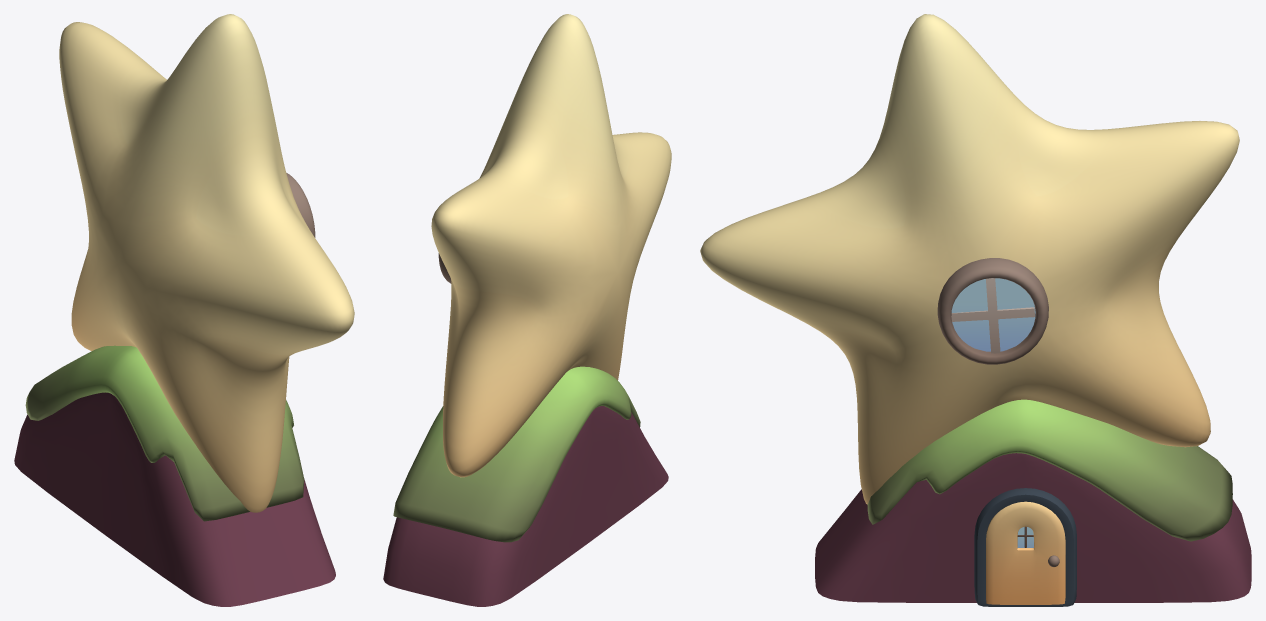
The model's file is Huisjes ster.fbx.
The picture shows the model from 3 angles, left to right: view 1: azimuth 30°, elevation 25°; view 2: azimuth 150°, elevation 25°; view 3: azimuth 270°, elevation 25°; orthographic projection. The views are drawn at different scales.
Parts seen in each view (by area): view 1: Circle.002, Circle.003, Circle.004, Cylinder.001; view 2: Circle.002, Circle.003, Circle.004; view 3: Circle.002, Circle.003, Circle.004, door, Cylinder.001, Cylinder.002, Plane.002, Cube.039.
Boxes of the visible parts, box(x1,y1,x2,y2) form: Circle.002: box(59, 14, 354, 512); Circle.003: box(14, 392, 335, 606); Circle.004: box(25, 345, 304, 521); Cylinder.001: box(286, 173, 315, 237); Circle.002: box(431, 14, 671, 477); Circle.003: box(383, 406, 668, 606); Circle.004: box(393, 366, 640, 542); Circle.002: box(700, 14, 1239, 504); Circle.003: box(815, 453, 1251, 602); Circle.004: box(867, 399, 1232, 541); door: box(986, 501, 1065, 604); Cylinder.001: box(937, 258, 1048, 364); Cylinder.002: box(974, 488, 1076, 606); Plane.002: box(951, 278, 1035, 351); Cube.039: box(951, 278, 1034, 353).
Bounding box in the file's own units: 246 × 718 × 645.
